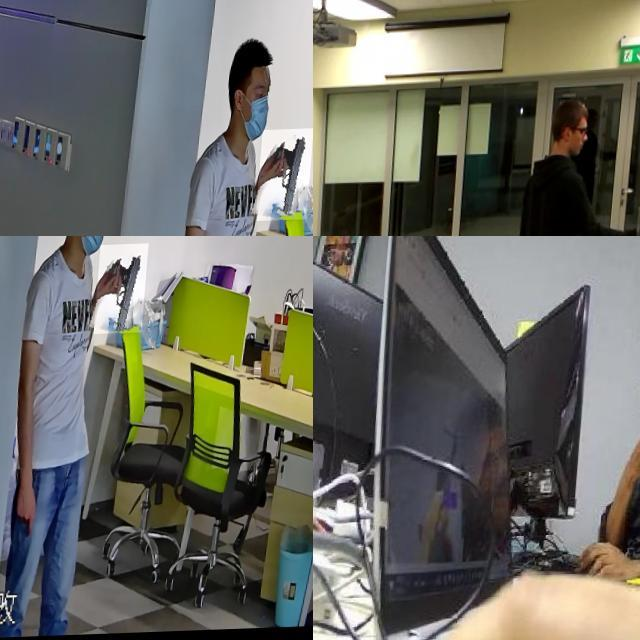gun-knife-thesis - v11 Yolov5 augmented: (99, 247, 153, 337), (261, 131, 313, 223)
